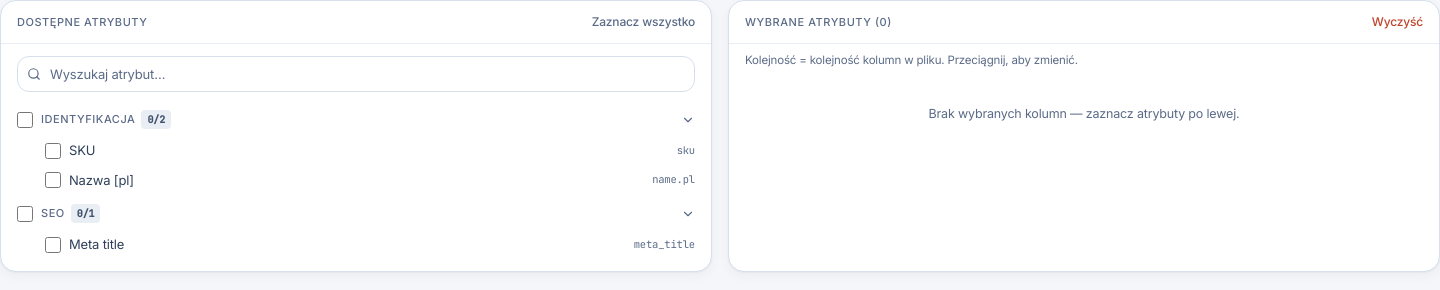
Test: ColumnPickerV2 › search narrows the available list
Type "meta" into the search field at (356, 74), box [17,56,695,92]
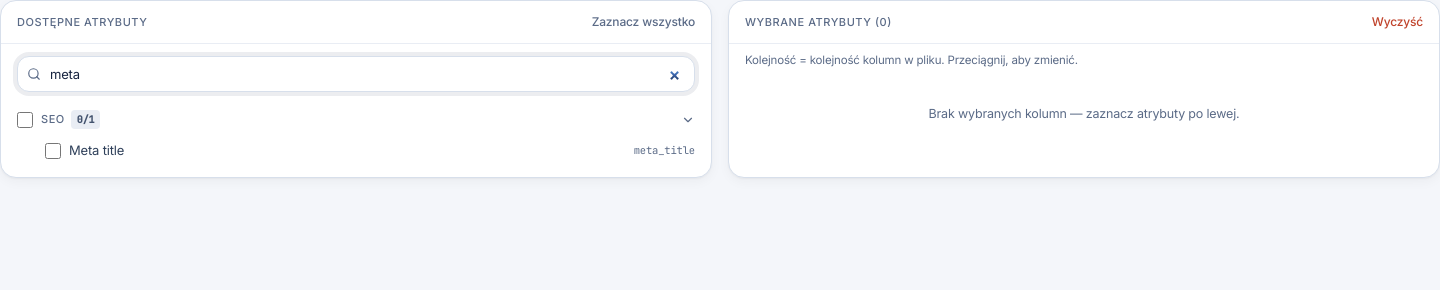
Expected: the text "Meta title" is shown, [69,142,124,158]
Now the text "Nazwa [pl]" is gone
